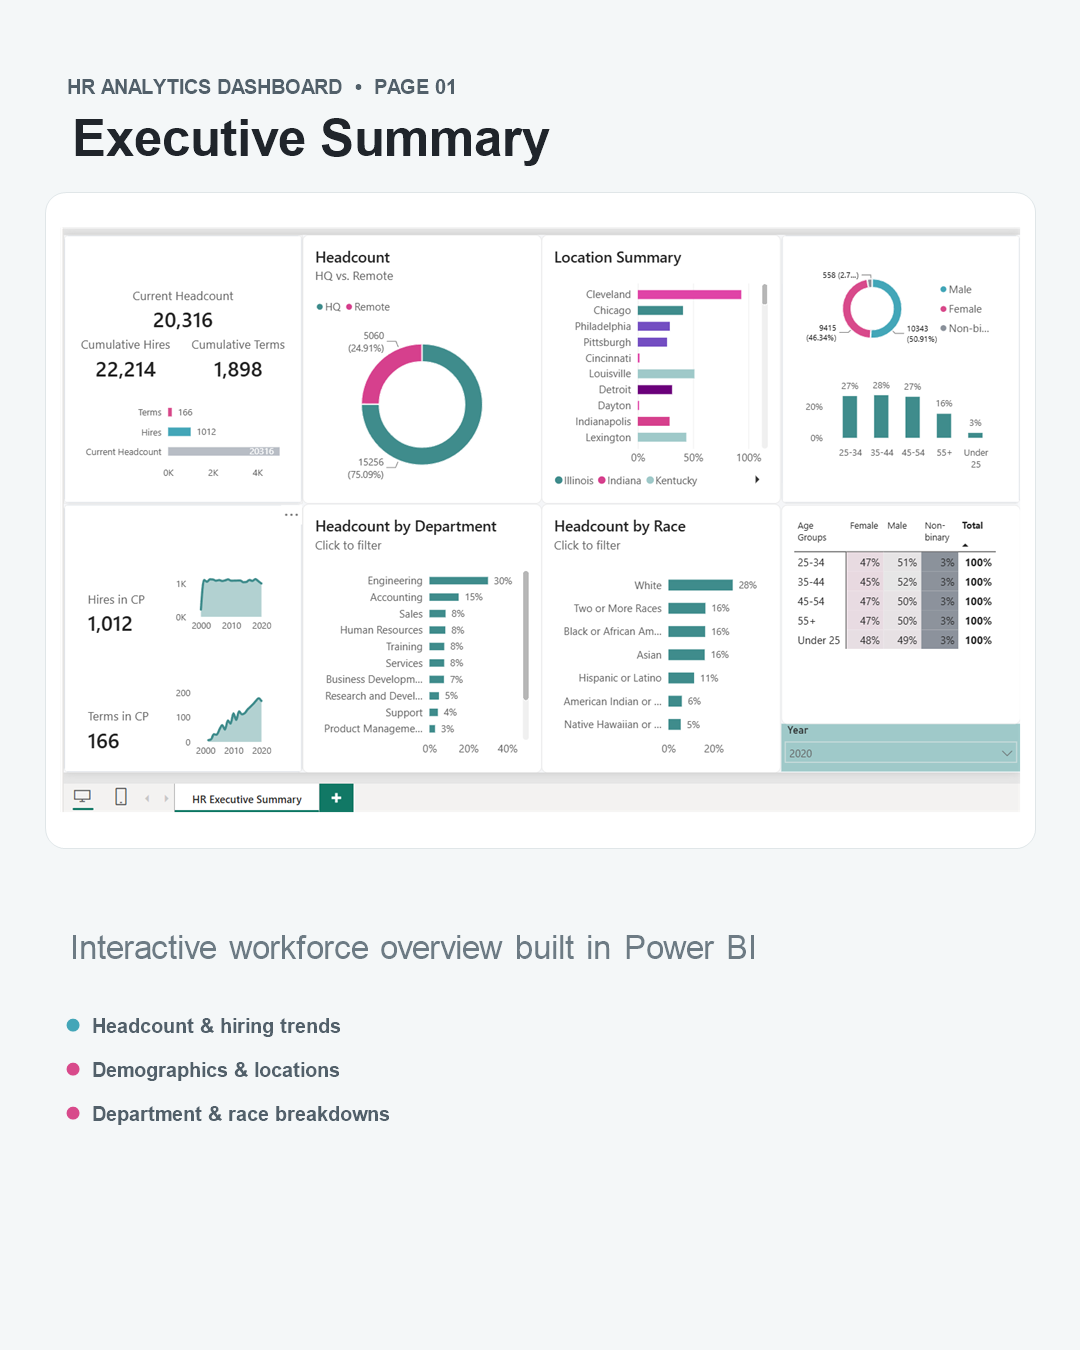

The dashboard page shown, as its layout file describes it:
{"tool":"powerbi","page":{"name":"HR Executive Summary","canvas":[1280,720],"ordinal":0},"visuals":[{"type":"shape","box":[0,360,320,360],"z":0},{"type":"shape","box":[960,0,320,360],"z":1000},{"type":"shape","box":[0,0,320,360],"z":2000},{"type":"slicer","fields":{"Values":["Calendar.Year"]},"box":[960,655,320,63.8],"z":3000},{"type":"cardVisual","title":"Current Headcount","fields":{"Data":["Employees.Current Headcount"]},"box":[70,66.2,180,70],"z":4000},{"type":"cardVisual","fields":{"Data":["Employees.Cumulative Hires"]},"box":[7.5,136.2,152,62.5],"z":5000},{"type":"cardVisual","fields":{"Data":["Employees.Cumulative Terms"]},"box":[155,136.2,158.8,62.5],"z":6000},{"type":"cardVisual","fields":{"Data":["Employees.Hires in Current Period"]},"box":[16.2,476.2,117.5,62.5],"z":7000},{"type":"cardVisual","title":"Terms in Current Period","fields":{"Data":["Employees.Terms in Current Period"]},"box":[16.2,633.8,117,62],"z":8000},{"type":"donutChart","title":"Headcount","fields":{"Category":["Employees.Location"],"Y":["Employees.Current Headcount by Location"]},"box":[320,0,320,360],"z":9000},{"type":"barChart","title":"Location Summary","fields":{"Category":["Employees.Location City"],"Y":["Employees.Location %"],"Series":["Employees.Location State"]},"box":[640,0,320,360],"z":10000},{"type":"donutChart","fields":{"Category":["Employees.Gender"],"Y":["Employees.Current Headcount by Demographic"]},"box":[976.2,31.2,287.5,136],"z":11000},{"type":"clusteredColumnChart","fields":{"Category":["Employees.Age Groups"],"Y":["Employees.Age Group %"]},"box":[976.2,167.5,287.5,166],"z":12000},{"type":"clusteredBarChart","title":"Headcount by Department","fields":{"Category":["Employees.Department"],"Y":["Employees.Department %"]},"box":[320,360,320,360],"z":13000},{"type":"clusteredBarChart","title":"Headcount by Race","fields":{"Y":["Employees.Race %"],"Category":["Employees.Race"]},"box":[640,360,320,360],"z":14000},{"type":"pivotTable","fields":{"Rows":["Employees.Age Groups"],"Columns":["Employees.Gender"],"Values":["Employees.Gender % Within Age Group"]},"box":[960,361.2,320,293.8],"z":15000},{"type":"lineChart","fields":{"Category":["Calendar.Year"],"Y":["Employees.Hires"]},"box":[133.8,422.5,160,130],"z":16000},{"type":"lineChart","fields":{"Category":["Calendar.Year"],"Y":["Employees.Terms by Year"]},"box":[133.8,590,160,130],"z":17000},{"type":"clusteredBarChart","fields":{"Category":["KPI Breakdown.Metric"],"Y":["KPI Breakdown.KPI Breakdown Value"]},"box":[6.2,198.8,306.2,148.8],"z":18000}]}

Visuals, with their boxes on the page's 1280x720 design canvas (x1, y1, x2, y2). These are canvas units, not pixel positions in the 1080x1350 screenshot, which may show the page scaled, cropped or inside an application window:
shape: 0 360 320 720
shape: 960 0 1280 360
shape: 0 0 320 360
slicer - Calendar.Year: 960 655 1280 719
"Current Headcount" cardVisual: 70 66 250 136
cardVisual - Employees.Cumulative Hires: 8 136 160 199
cardVisual - Employees.Cumulative Terms: 155 136 314 199
cardVisual - Employees.Hires in Current Period: 16 476 134 539
"Terms in Current Period" cardVisual: 16 634 133 696
"Headcount" donutChart: 320 0 640 360
"Location Summary" barChart: 640 0 960 360
donutChart - Employees.Gender x Employees.Current Headcount by Demographic: 976 31 1264 167
clusteredColumnChart - Employees.Age Groups x Employees.Age Group %: 976 168 1264 334
"Headcount by Department" clusteredBarChart: 320 360 640 720
"Headcount by Race" clusteredBarChart: 640 360 960 720
pivotTable - Employees.Age Groups x Employees.Gender: 960 361 1280 655
lineChart - Calendar.Year x Employees.Hires: 134 422 294 552
lineChart - Calendar.Year x Employees.Terms by Year: 134 590 294 720
clusteredBarChart - KPI Breakdown.Metric x KPI Breakdown.KPI Breakdown Value: 6 199 312 348
